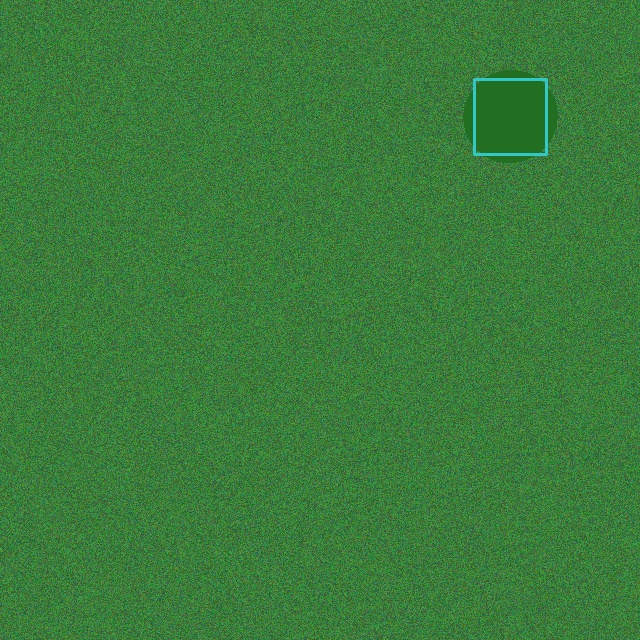army worm: (464, 69, 556, 164)
